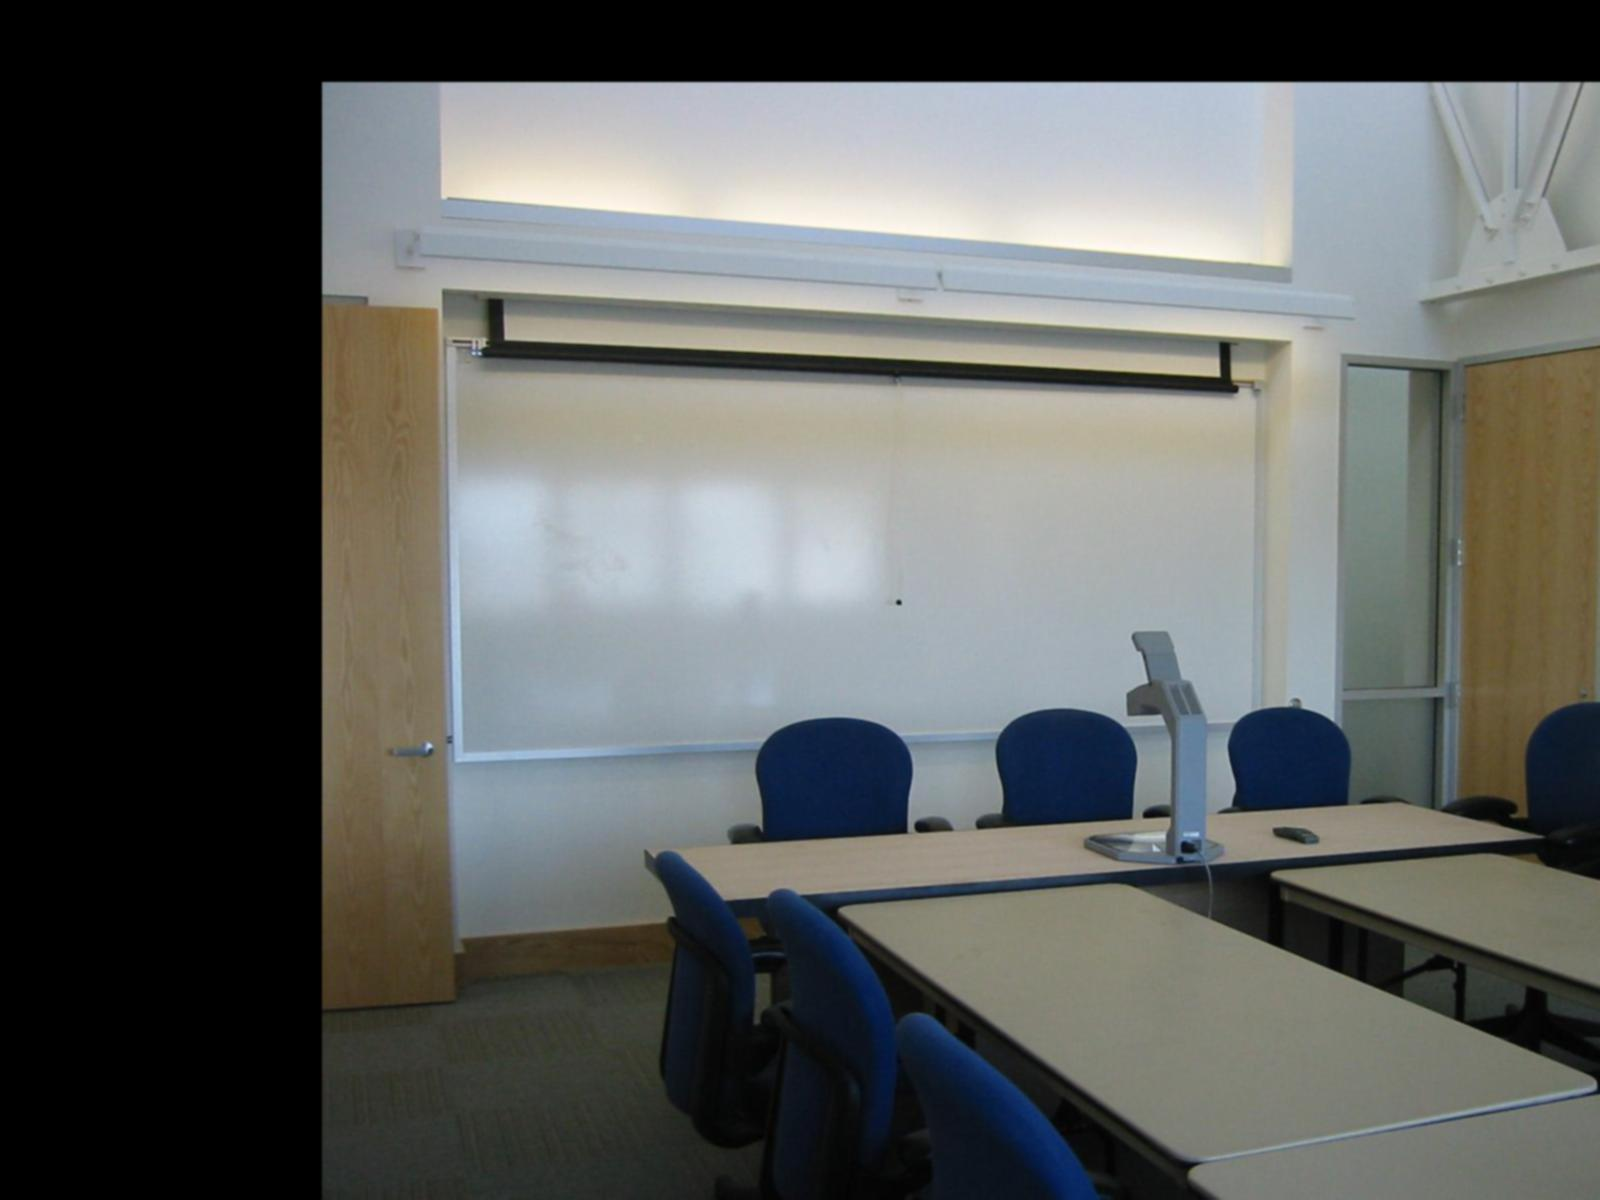Puerta: (333, 301, 441, 1016), (1458, 359, 1591, 774)
